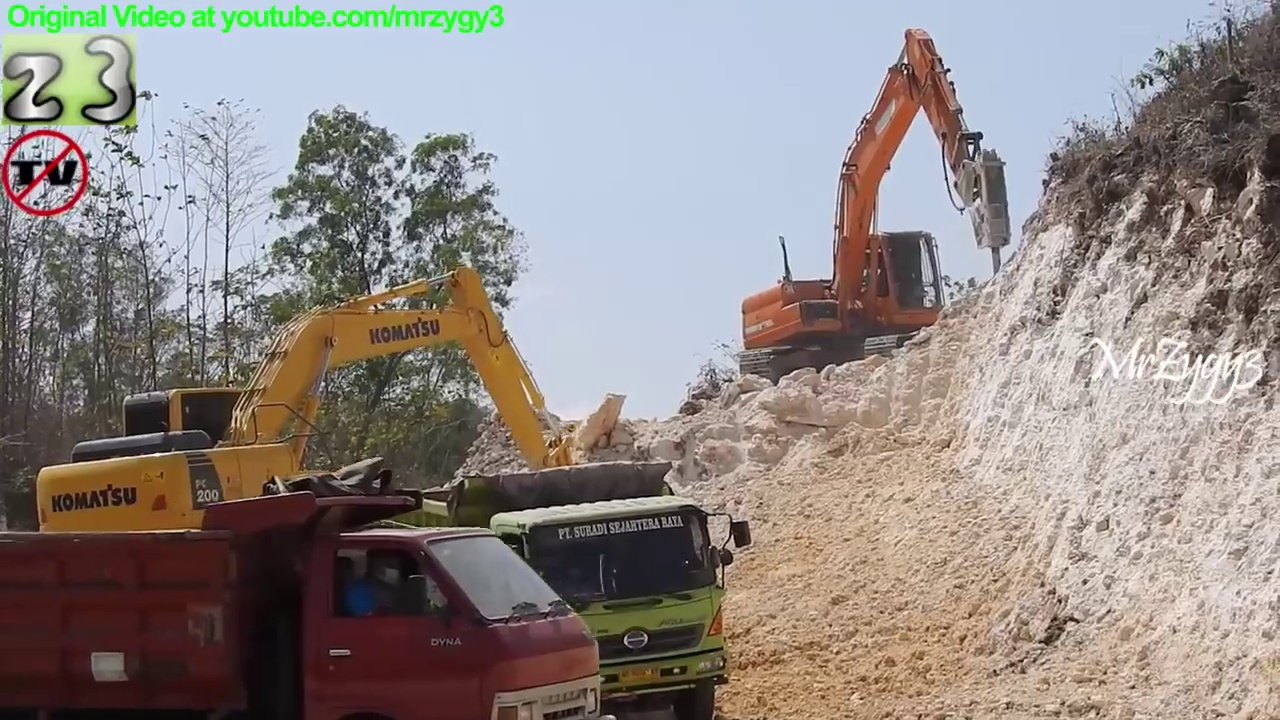excavator: (29, 261, 607, 613), (731, 19, 1022, 399)
truck: (1, 483, 610, 720), (237, 455, 761, 720)
